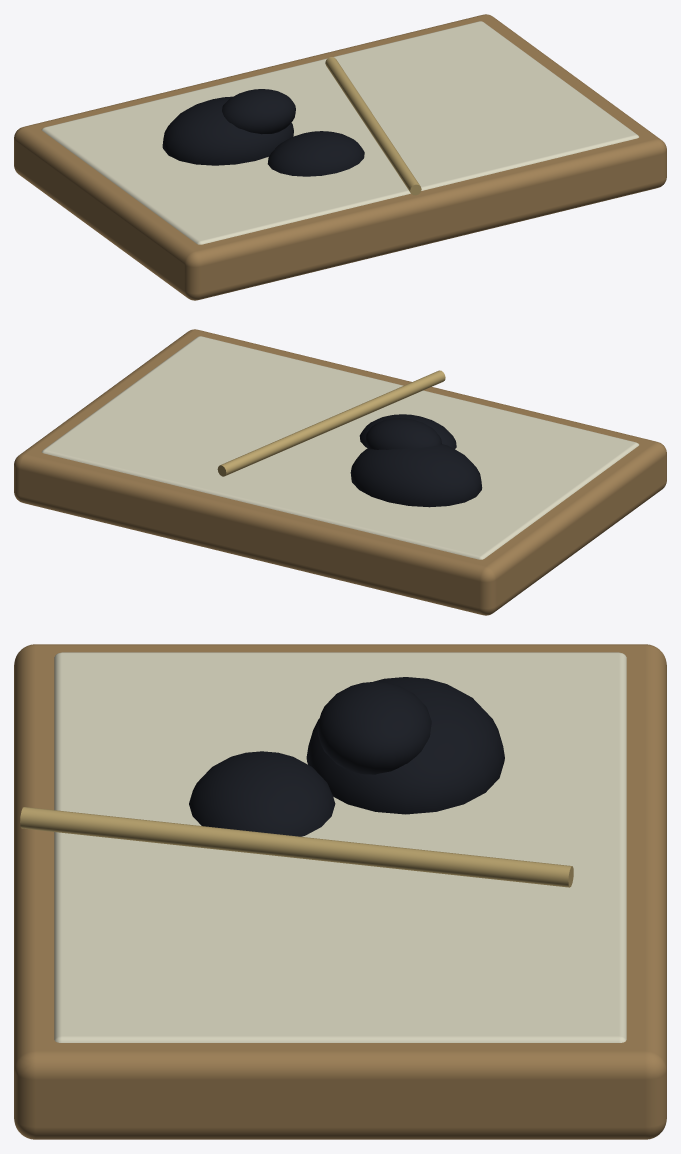
Rendered from atelier-decor-zen-matcha.glb.
3 views of the same model, one above another, from view 1: azimuth 30°, elevation 25°; view 2: azimuth 150°, elevation 25°; view 3: azimuth 270°, elevation 25° (orthographic). The views are drawn at different scales.
Bounding box in the file's own units: 0.23 × 0.0451 × 0.15.
